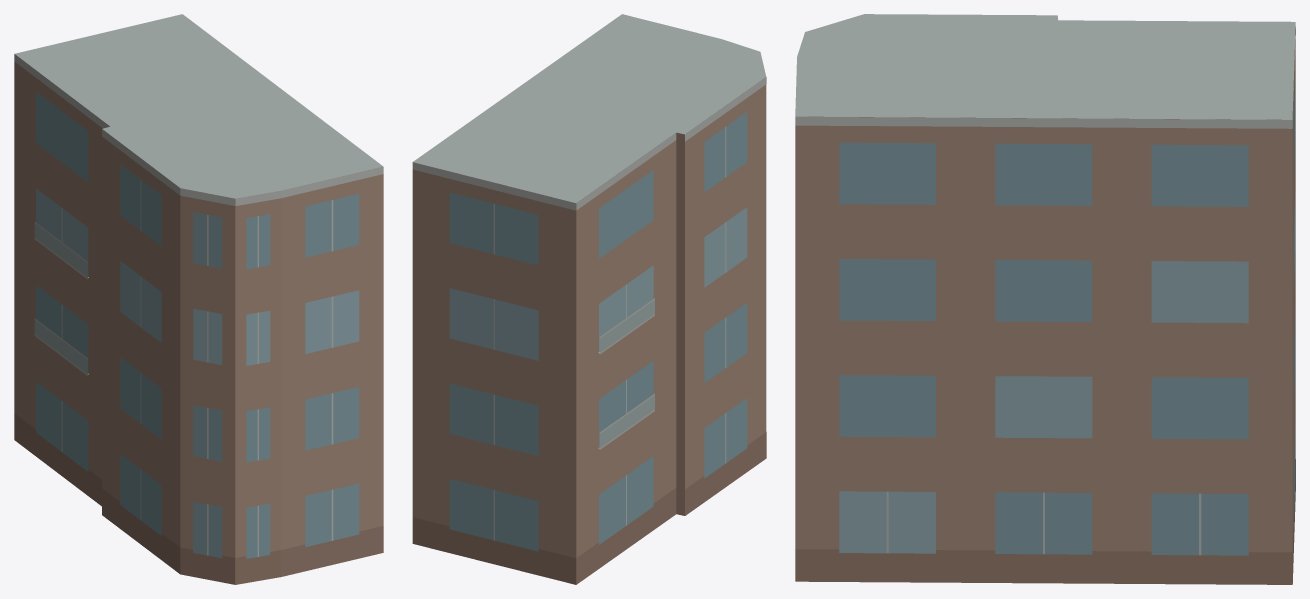
Rendered from survey-upis-32697554.glb.
3 views of the same model, side by side, from view 1: azimuth 30°, elevation 25°; view 2: azimuth 150°, elevation 25°; view 3: azimuth 270°, elevation 25° (orthographic). The views are drawn at different scales.
Visible parts, largest first — view 1: survey-upis-32697554.tmp; view 2: survey-upis-32697554.tmp; view 3: survey-upis-32697554.tmp.
Part boxes in pixels (box(x1,y1,x2,y2)): survey-upis-32697554.tmp: box(14, 14, 383, 584); survey-upis-32697554.tmp: box(412, 14, 766, 584); survey-upis-32697554.tmp: box(795, 14, 1295, 584).
Size of the model in its own units: 6.16 by 12.6 by 12.3.
